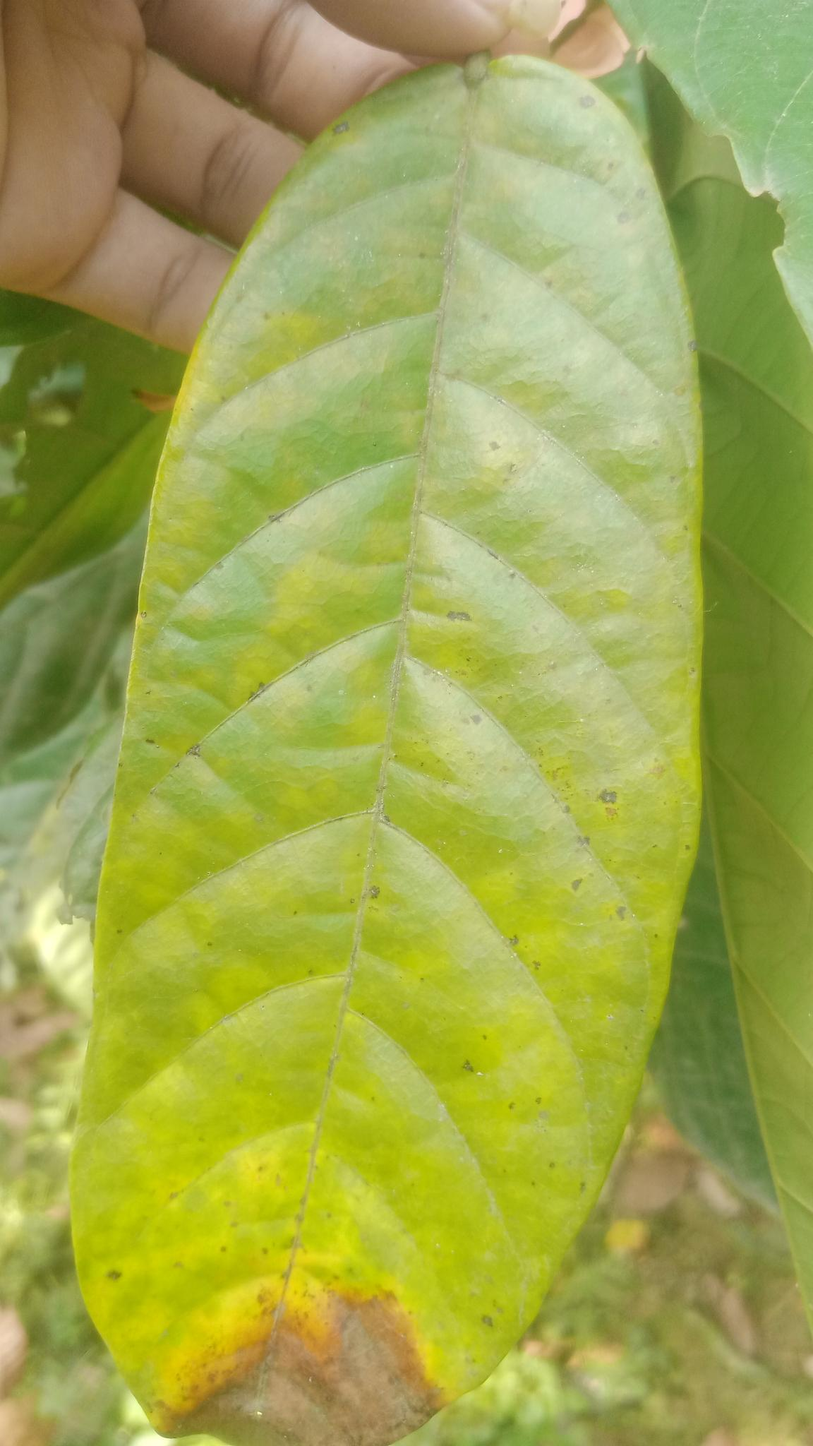Fosforo: (60, 46, 713, 1446)
